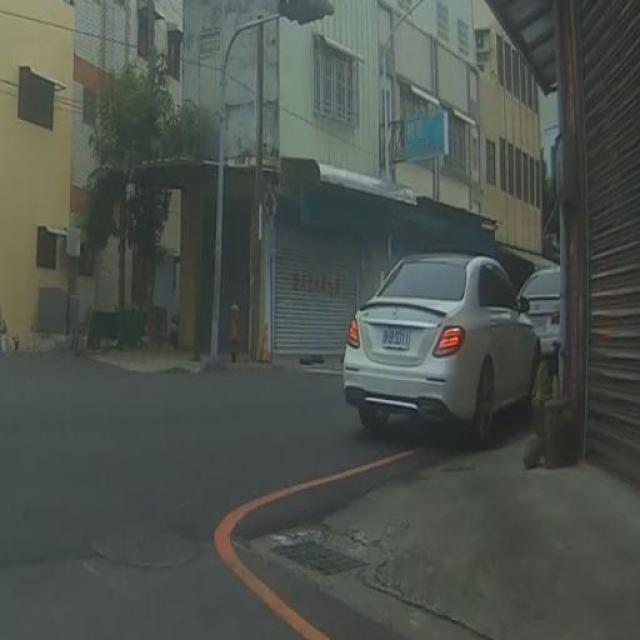illegalparking: (344, 254, 559, 445)
